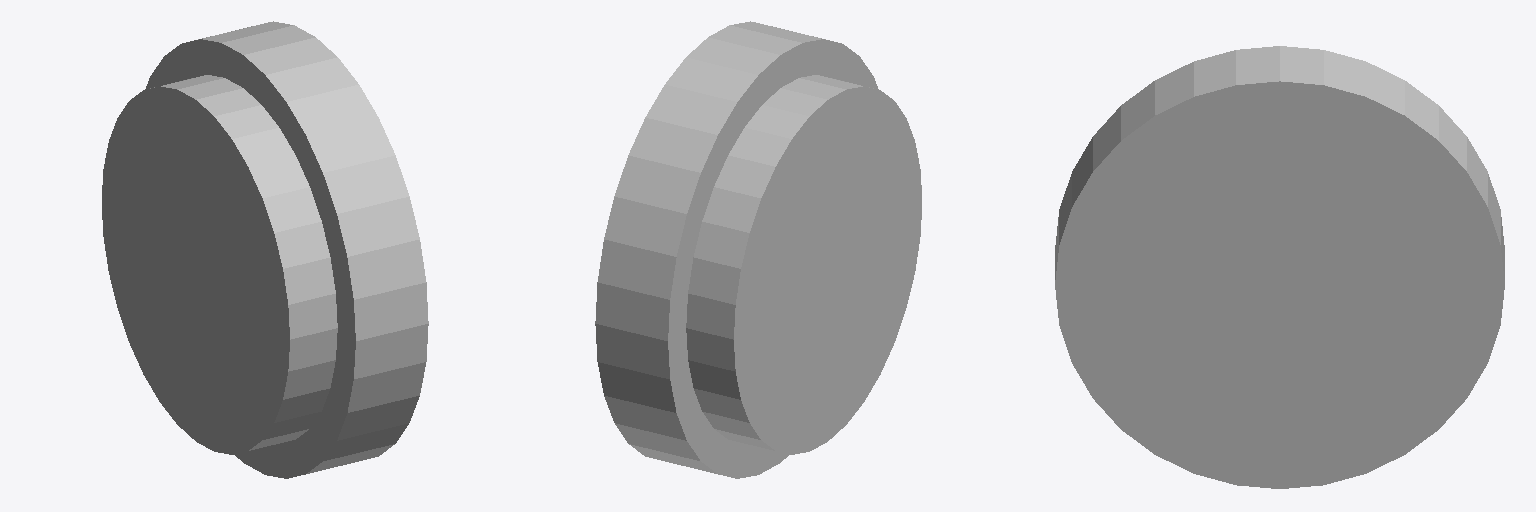
File: button.obj
The picture shows the model from 3 angles: view 1: azimuth 30°, elevation 25°; view 2: azimuth 150°, elevation 25°; view 3: azimuth 270°, elevation 25°; orthographic projection.
Parts seen in each view (by area): view 1: Cylinder; view 2: Cylinder; view 3: Cylinder.
Boxes of the visible parts, <box> form: Cylinder: <box>102,21,428,478</box>; Cylinder: <box>595,21,921,478</box>; Cylinder: <box>1055,46,1504,488</box>.
Size of the model in its own units: 0.0627 by 0.2033 by 0.2033.